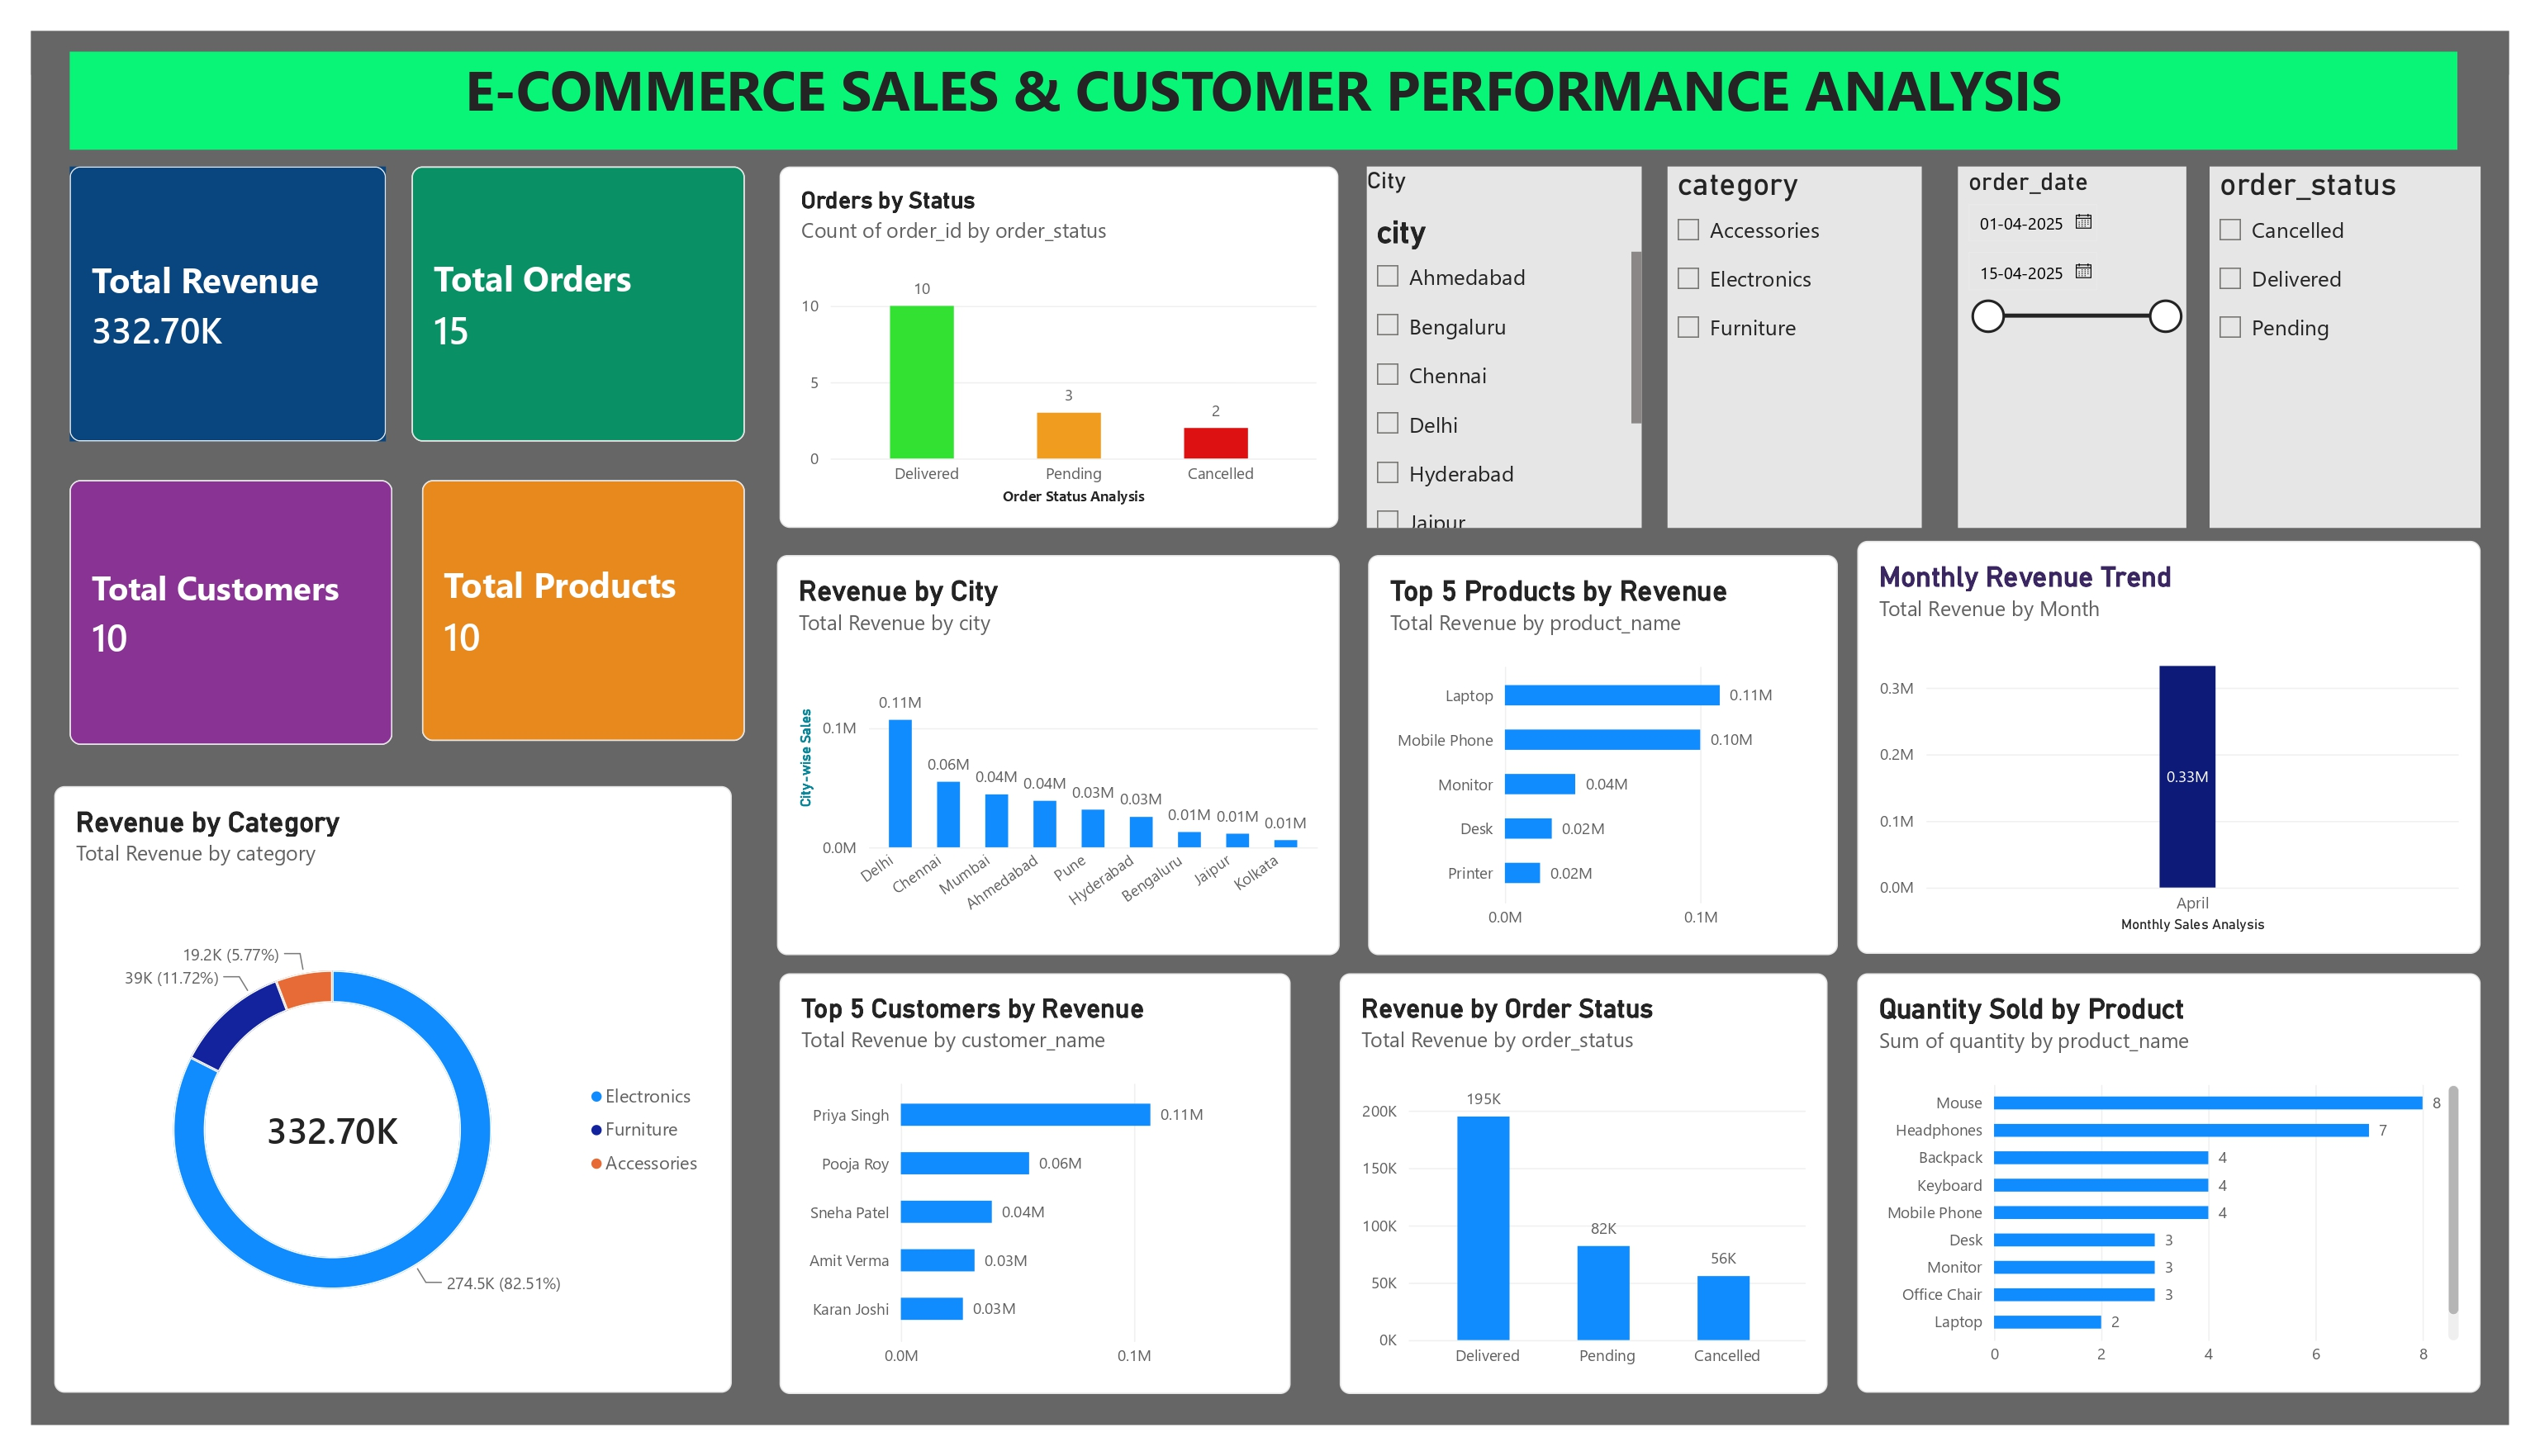

The page's visual inventory and layout, read from the dashboard file:
{"tool":"powerbi","page":{"name":"Page 1","canvas":[1920,1080],"ordinal":0},"visuals":[{"type":"cardVisual","fields":{"Data":["ecommerce_analysis customers.Total Revenue"]},"box":[30,105,245,212.5],"z":0},{"type":"cardVisual","fields":{"Data":["products.Total Orders"]},"box":[295,105,257.5,212.5],"z":1000},{"type":"cardVisual","fields":{"Data":["customers.Total Customers"]},"box":[30,347.5,250,205],"z":2000},{"type":"cardVisual","fields":{"Data":["customers.Total Products"]},"box":[302.5,347.5,250,202.5],"z":3000},{"type":"columnChart","title":"Orders by Status","fields":{"Category":["orders.order_status"],"Y":["CountNonNull(orders.order_id)"]},"box":[580,105,432.5,280],"z":4000},{"type":"ribbonChart","title":"Monthly Revenue Trend","fields":{"Category":["orders.order_date.Variation.Date Hierarchy.Month"],"Y":["customers.Total Revenue"]},"box":[1415,395,482.5,320],"z":5000},{"type":"clusteredColumnChart","title":"\tRevenue by City","fields":{"Category":["customers.city"],"Y":["customers.Total Revenue"]},"box":[578,406,436,310],"z":6000},{"type":"clusteredBarChart","title":"Top 5 Products by Revenue","fields":{"Category":["products.product_name"],"Y":["customers.Total Revenue"]},"box":[1036,406,364,310],"z":7000},{"type":"donutChart","title":"Revenue by Category","fields":{"Category":["products.category"],"Y":["customers.Total Revenue"]},"box":[17.5,585,525,470],"z":8000},{"type":"clusteredBarChart","title":"Top 5 Customers by Revenue","fields":{"Category":["customers.customer_name"],"Y":["customers.Total Revenue"]},"box":[580,730,396,326],"z":9000},{"type":"clusteredColumnChart","title":"Revenue by Order Status","fields":{"Category":["orders.order_status"],"Y":["customers.Total Revenue"]},"box":[1014,730,378,326],"z":10000},{"type":"clusteredBarChart","title":"Quantity Sold by Product","fields":{"Category":["products.product_name"],"Y":["Sum(order_details.quantity)"]},"box":[1415,730,482.5,325],"z":11000},{"type":"textbox","box":[30,16,1850,76],"z":12000},{"type":"slicer","title":"City","fields":{"Values":["customers.city"]},"box":[1035,105,212.5,280],"z":13000},{"type":"slicer","fields":{"Values":["products.category"]},"box":[1267.5,105,197.5,280],"z":14000},{"type":"slicer","fields":{"Values":["orders.order_date"]},"box":[1492.5,105,177.5,280],"z":15000},{"type":"slicer","fields":{"Values":["orders.order_status"]},"box":[1687.5,105,210,280],"z":16000}]}

Visuals, with their boxes in screenshot pixels (x1, y1, x2, y2):
cardVisual - ecommerce_analysis customers.Total Revenue: <box>52,150,372,427</box>
cardVisual - products.Total Orders: <box>398,150,734,427</box>
cardVisual - customers.Total Customers: <box>52,467,378,734</box>
cardVisual - customers.Total Products: <box>408,467,734,731</box>
"Orders by Status" columnChart: <box>770,150,1334,515</box>
"Monthly Revenue Trend" ribbonChart: <box>1859,529,2489,946</box>
"	Revenue by City" clusteredColumnChart: <box>767,543,1336,947</box>
"Top 5 Products by Revenue" clusteredBarChart: <box>1365,543,1840,947</box>
"Revenue by Category" donutChart: <box>36,776,721,1389</box>
"Top 5 Customers by Revenue" clusteredBarChart: <box>770,965,1287,1391</box>
"Revenue by Order Status" clusteredColumnChart: <box>1336,965,1830,1391</box>
"Quantity Sold by Product" clusteredBarChart: <box>1859,965,2489,1389</box>
textbox: <box>52,34,2466,133</box>
"City" slicer: <box>1364,150,1640,515</box>
slicer - products.category: <box>1667,150,1925,515</box>
slicer - orders.order_date: <box>1960,150,2192,515</box>
slicer - orders.order_status: <box>2215,150,2489,515</box>
